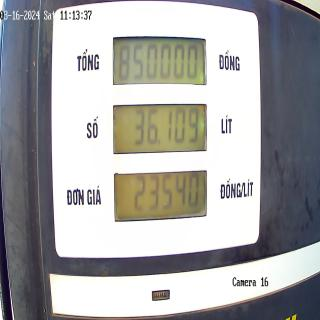screen: (111, 31, 209, 228)
